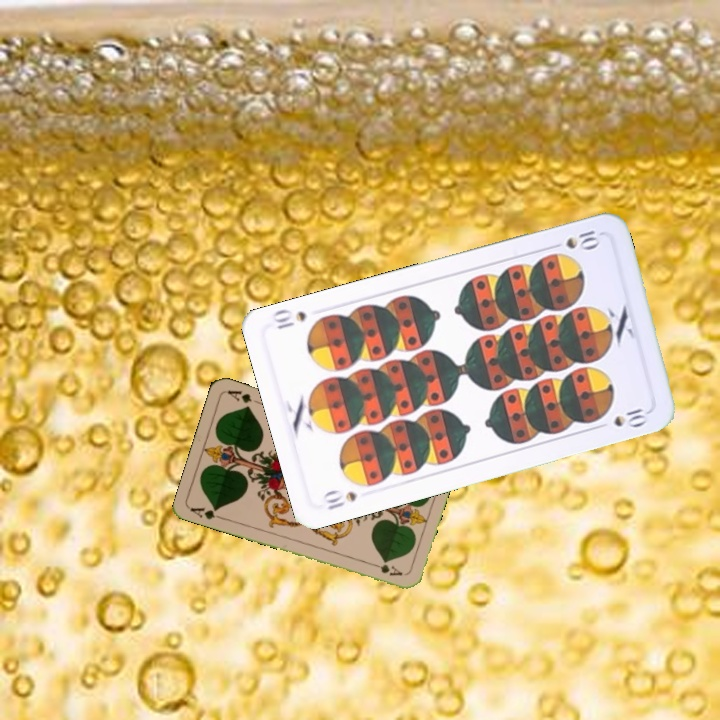GA: (186, 503, 227, 522)
S10: (545, 226, 603, 252), (318, 486, 360, 513)
